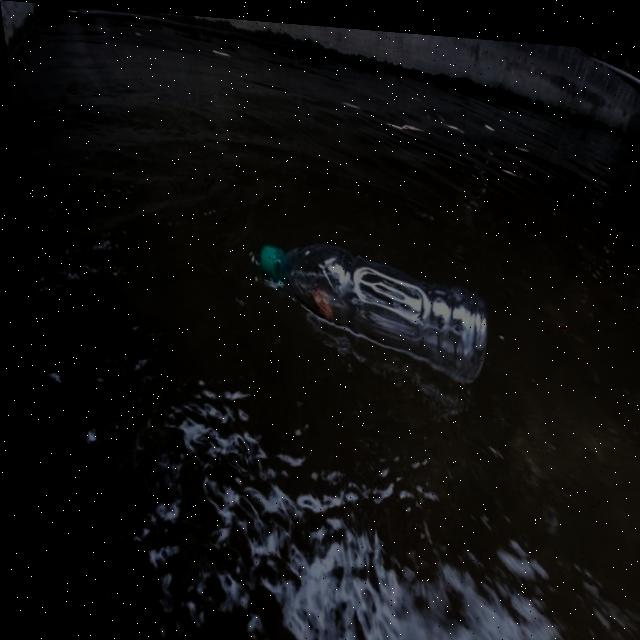waterbottle: (238, 219, 518, 408)
